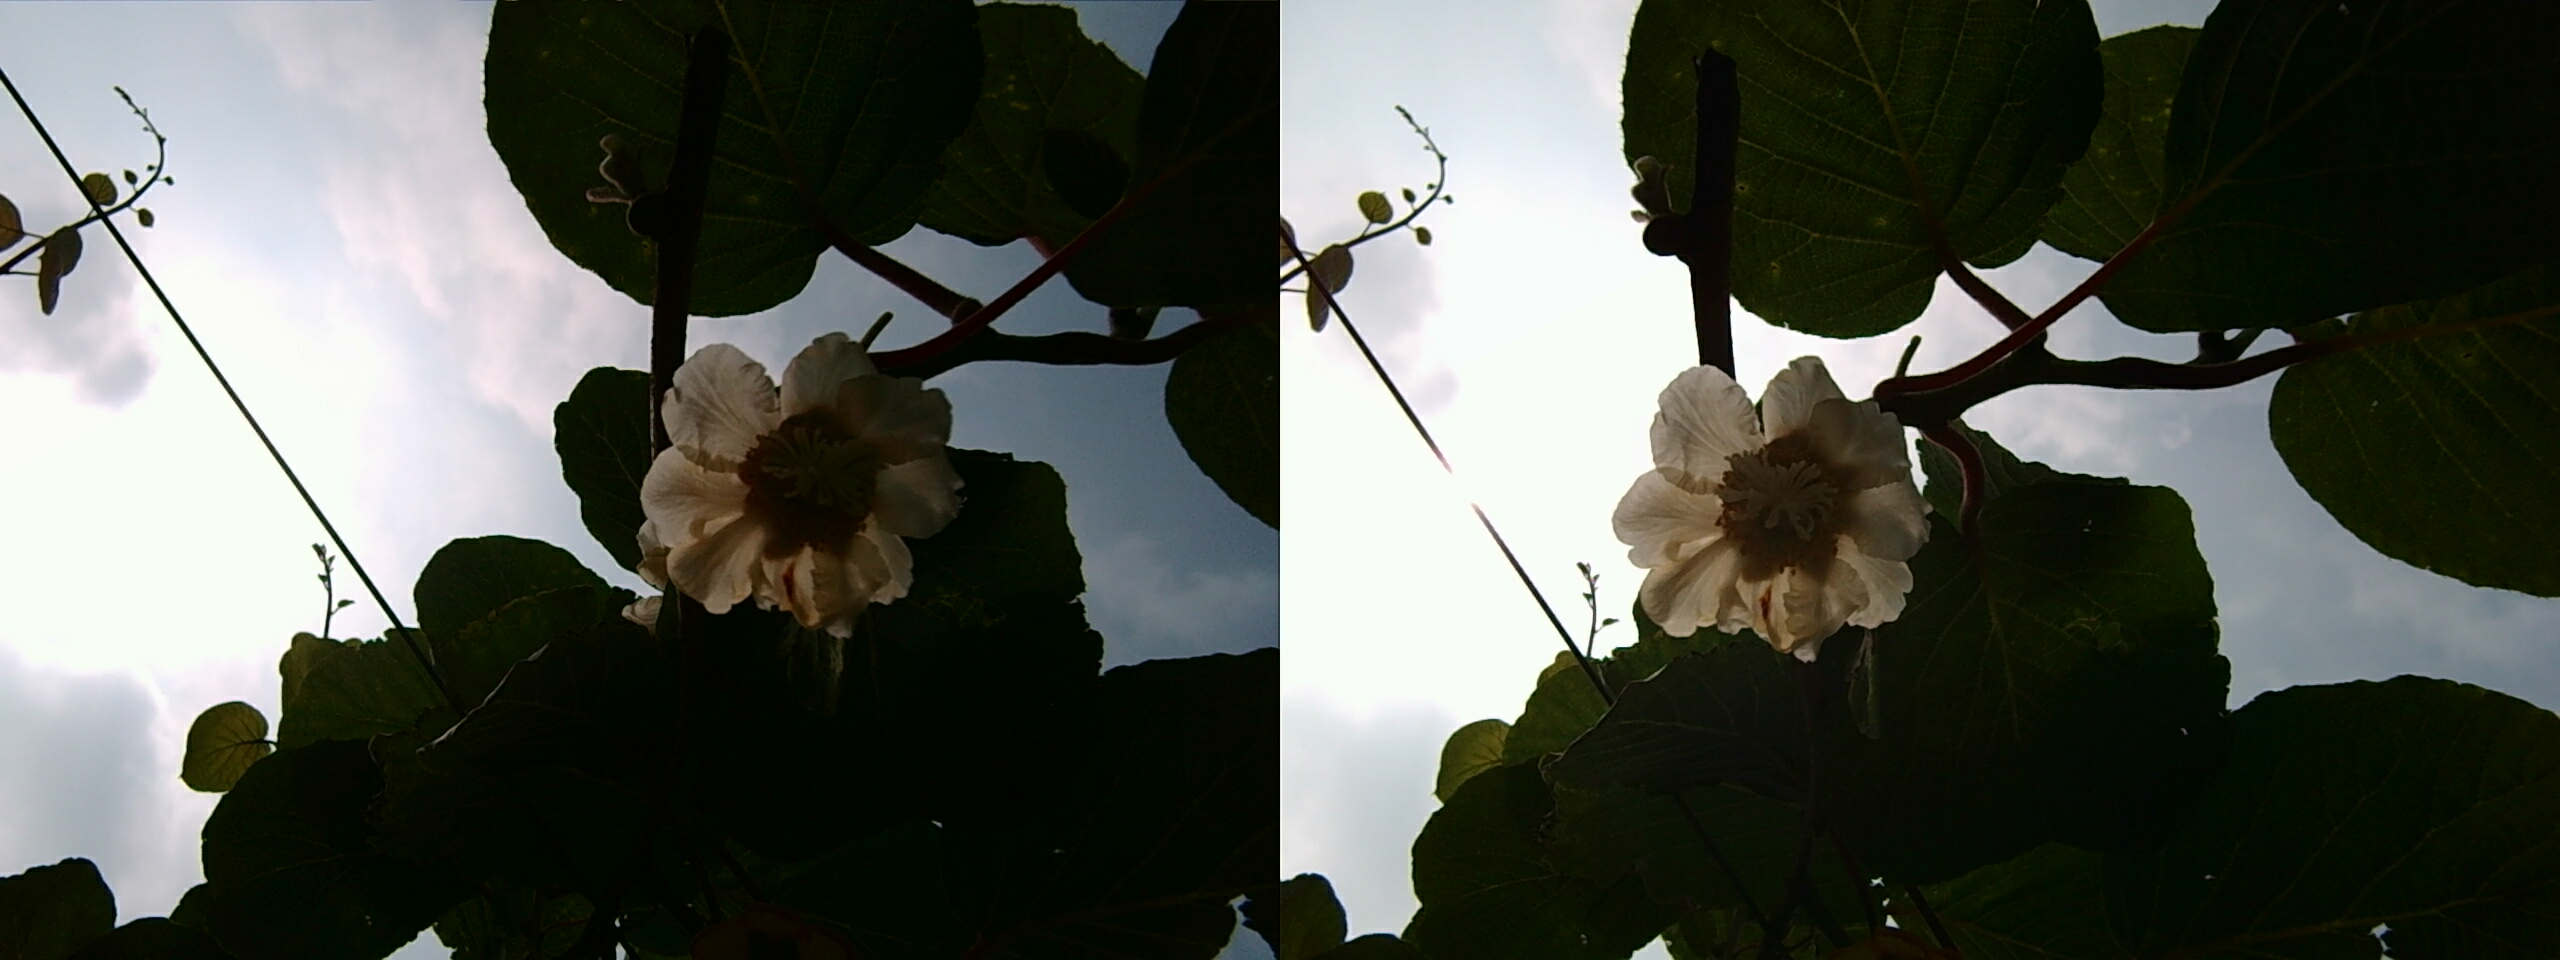flower: (1620, 361, 1920, 642), (647, 331, 940, 612), (651, 348, 790, 567)
